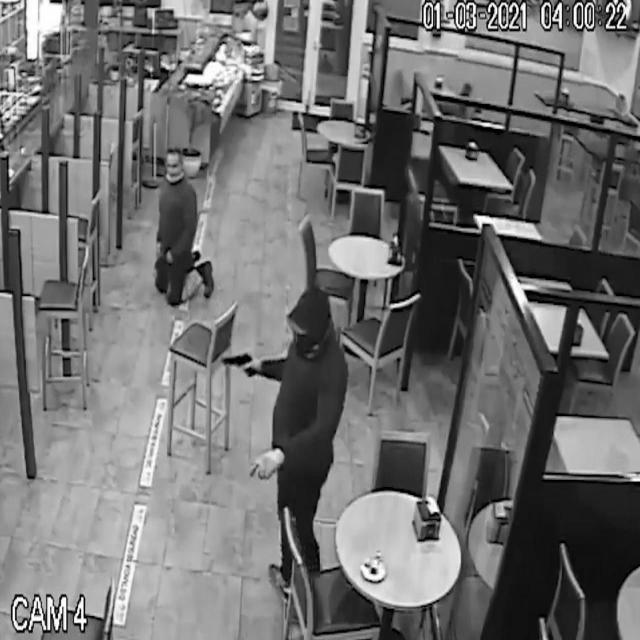Gun: (214, 343, 266, 391)
